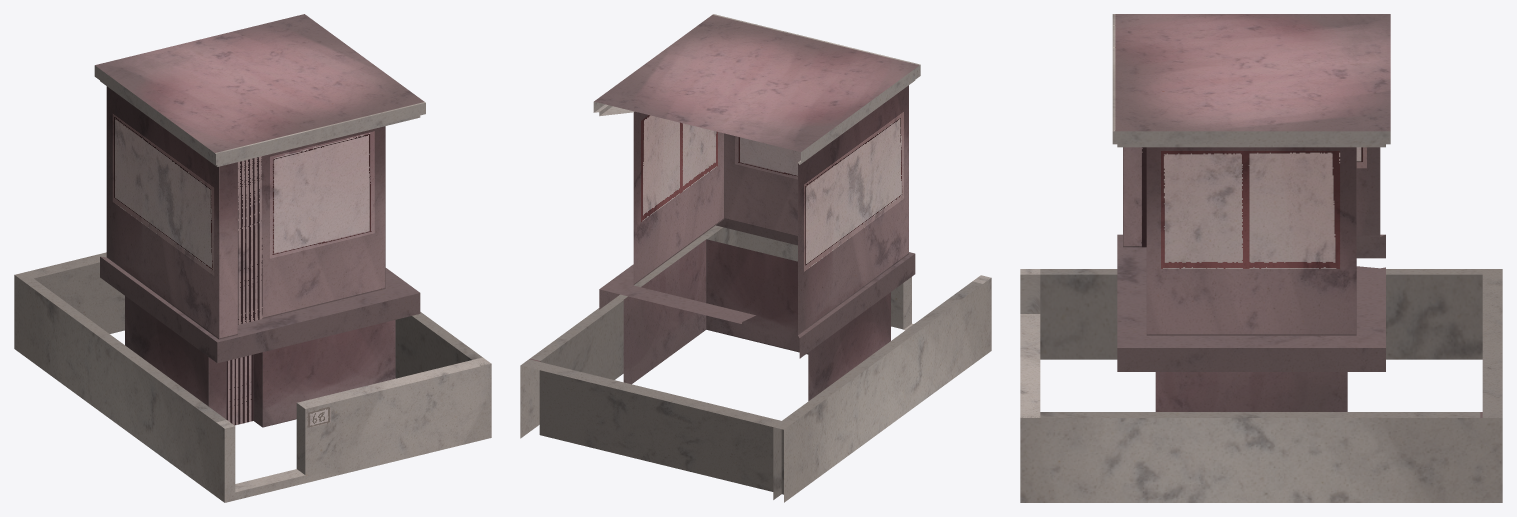
3 views of the same model, side by side, from view 1: azimuth 30°, elevation 25°; view 2: azimuth 150°, elevation 25°; view 3: azimuth 270°, elevation 25° (orthographic). The views are drawn at different scales.
Parts seen in each view (by area): view 1: Box001, Box002; view 2: Box001, Box002; view 3: Box001, Box002.
Part boxes in pixels (left/top/right/bottom): Box001: left=94, top=14, right=425, bottom=427; Box002: left=14, top=252, right=491, bottom=502; Box001: left=593, top=14, right=920, bottom=400; Box002: left=520, top=225, right=991, bottom=502; Box001: left=1112, top=14, right=1390, bottom=411; Box002: left=1020, top=269, right=1502, bottom=502.
Bounding box in the file's own units: 210 × 235 × 287.
Materials: 1 (1 with a texture image).
